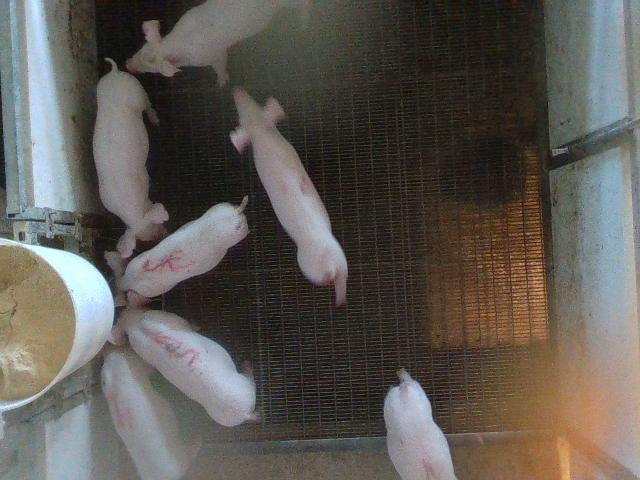pig-1: (384, 369, 456, 479)
pig-3: (110, 309, 256, 426)
pig-4: (101, 345, 200, 479)
pig-5: (105, 199, 248, 307)
